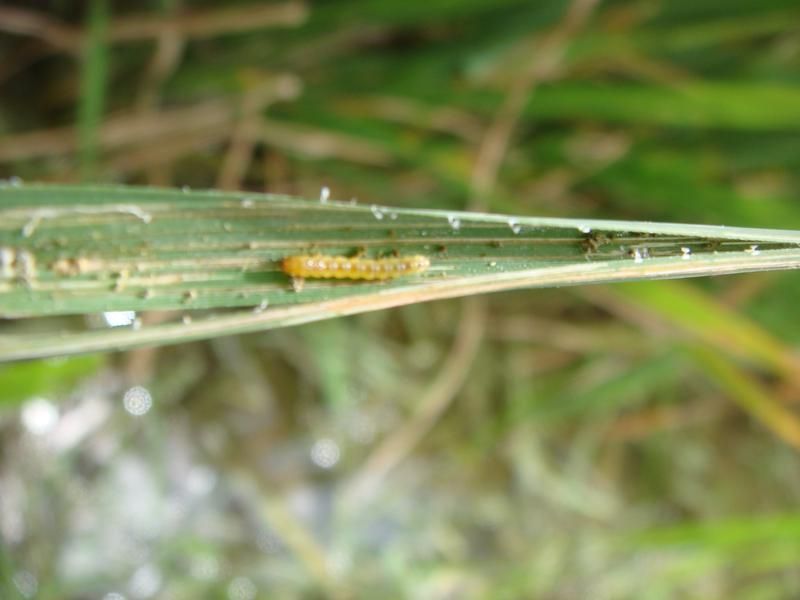Leaf_folder: (265, 229, 452, 291)
